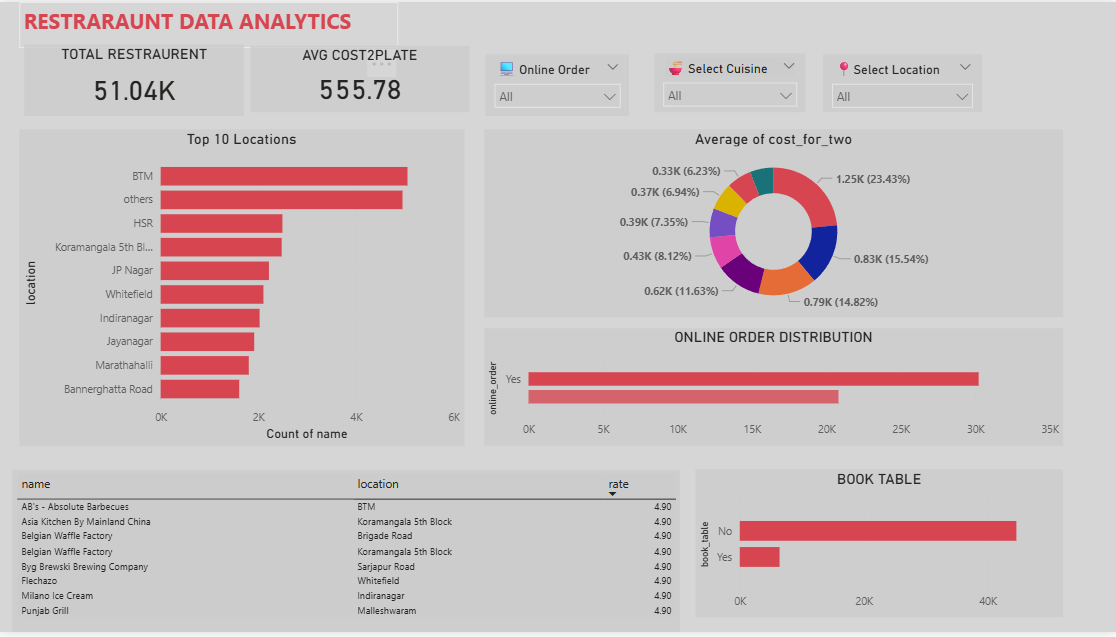

What the dashboard file says about the page in this screenshot:
{"tool":"powerbi","page":{"name":"Page 1","canvas":[1280,720],"ordinal":0},"visuals":[{"type":"textbox","box":[24.3,0,432.9,52.9],"z":0},{"type":"card","title":"TOTAL RESTRAURENT","fields":{"Values":["CountNonNull(cleanedzomato.name)"]},"box":[30,48.6,251.4,81.4],"z":1000},{"type":"card","title":"AVG COST2PLATE","fields":{"Values":["Avg(cleanedzomato.cost of 2)"]},"box":[288.6,50,250,75.7],"z":2000},{"type":"barChart","title":"ONLINE ORDER DISTRIBUTION","fields":{"Category":["cleanedzomato.online_order"],"Y":["CountNonNull(cleanedzomato.name)"]},"box":[555.7,372.9,661.4,134.3],"z":3000},{"type":"clusteredBarChart","title":"Top 10 Locations","fields":{"Category":["cleanedzomato.location"],"Y":["CountNonNull(cleanedzomato.name)"]},"box":[24.3,145.7,508.6,361.4],"z":4000},{"type":"donutChart","title":"Average of cost_for_two","fields":{"Y":["Avg(cleanedzomato.cost of 2)"],"Category":["cleanedzomato.rest_type"]},"box":[555.7,145.7,661.4,214.3],"z":5000},{"type":"slicer","fields":{"Values":["cleanedzomato.location"]},"box":[942.9,60,181.4,65.7],"z":5001},{"type":"slicer","fields":{"Values":["cleanedzomato.cuisines"]},"box":[750,58.6,172.9,67.1],"z":5002},{"type":"slicer","fields":{"Values":["cleanedzomato.online_order"]},"box":[557.1,60,164.3,70],"z":5003},{"type":"tableEx","fields":{"Values":["cleanedzomato.name","cleanedzomato.location","cleanedzomato.rate"]},"box":[15.7,534.3,764.3,185.7],"z":5004},{"type":"barChart","title":"BOOK TABLE ","fields":{"Category":["cleanedzomato.book_table"],"Y":["CountNonNull(cleanedzomato.name)"]},"box":[797.1,534.3,420,168.6],"z":5005}]}

Visuals, with their boxes in screenshot pixels (x1, y1, x2, y2), scaled from the page's 1280x720 canvas onto the 1116x637 screenshot:
textbox: {"left": 21, "top": 0, "right": 399, "bottom": 47}
"TOTAL RESTRAURENT" card: {"left": 26, "top": 43, "right": 245, "bottom": 115}
"AVG COST2PLATE" card: {"left": 252, "top": 44, "right": 470, "bottom": 111}
"ONLINE ORDER DISTRIBUTION" barChart: {"left": 485, "top": 330, "right": 1061, "bottom": 449}
"Top 10 Locations" clusteredBarChart: {"left": 21, "top": 129, "right": 465, "bottom": 449}
"Average of cost_for_two" donutChart: {"left": 485, "top": 129, "right": 1061, "bottom": 318}
slicer - cleanedzomato.location: {"left": 822, "top": 53, "right": 980, "bottom": 111}
slicer - cleanedzomato.cuisines: {"left": 654, "top": 52, "right": 805, "bottom": 111}
slicer - cleanedzomato.online_order: {"left": 486, "top": 53, "right": 629, "bottom": 115}
tableEx - cleanedzomato.name x cleanedzomato.location: {"left": 14, "top": 473, "right": 680, "bottom": 636}
"BOOK TABLE " barChart: {"left": 695, "top": 473, "right": 1061, "bottom": 622}
